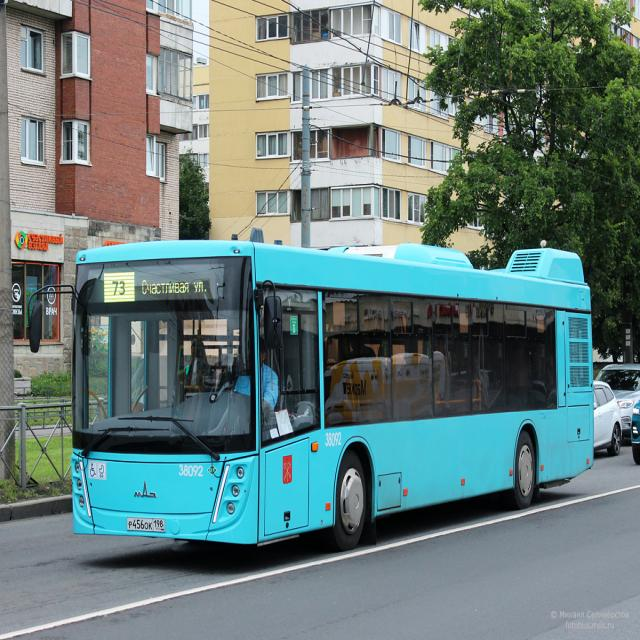number-of-bus: (111, 278, 129, 299)
